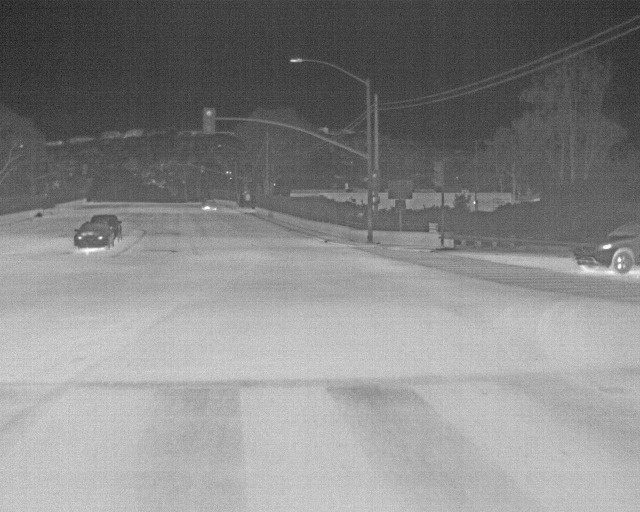vehicle: (574, 220, 639, 275), (75, 221, 116, 252)
